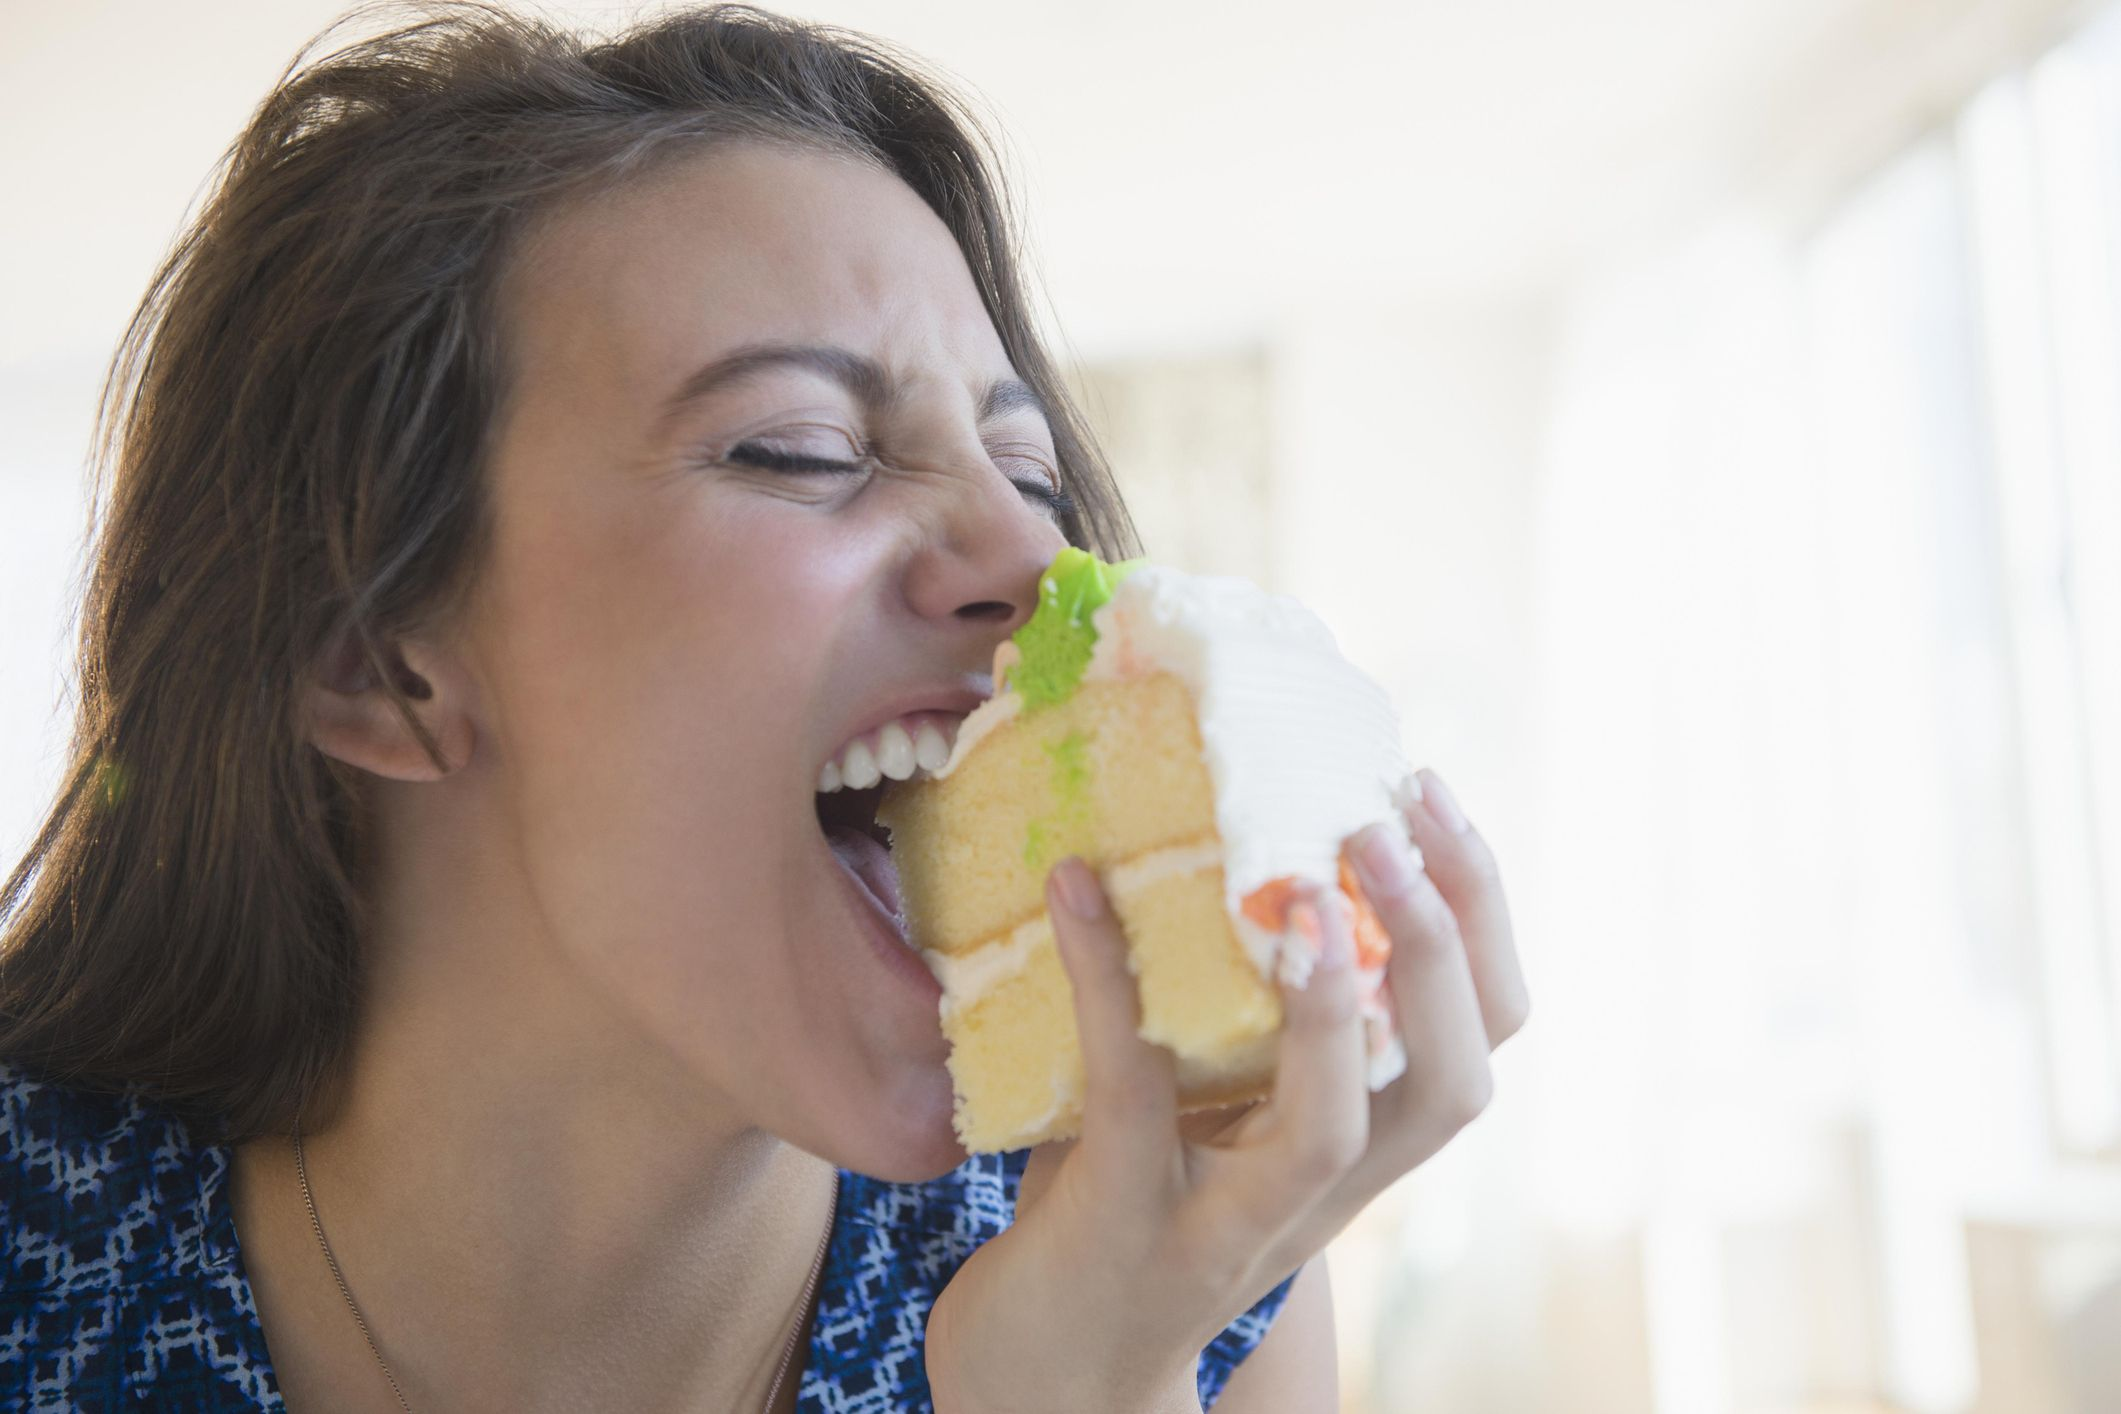eating: (35, 24, 1483, 1277)
